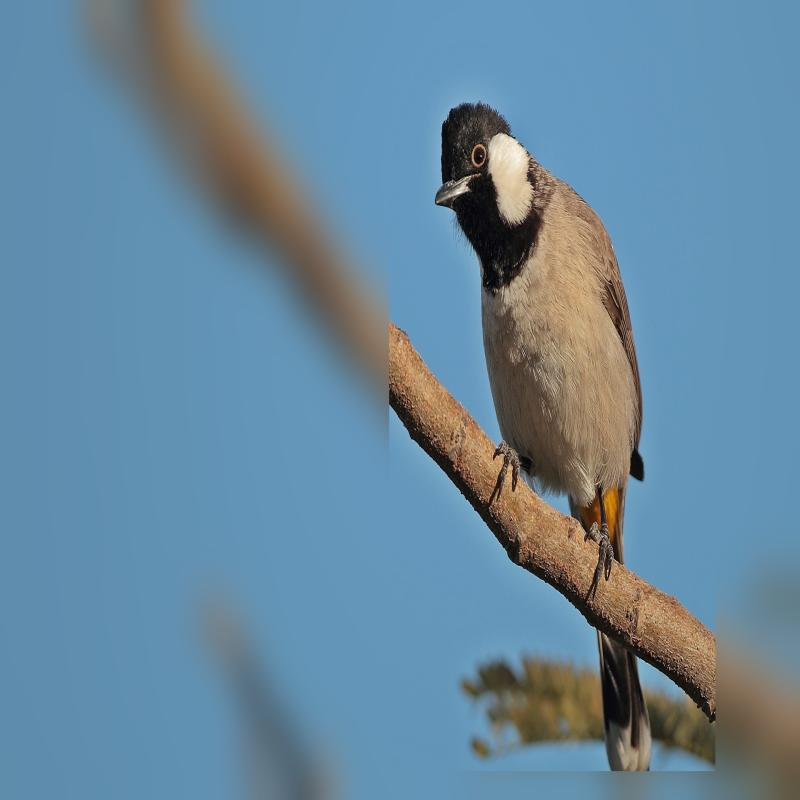white-eared bulbul: (426, 93, 657, 770)
